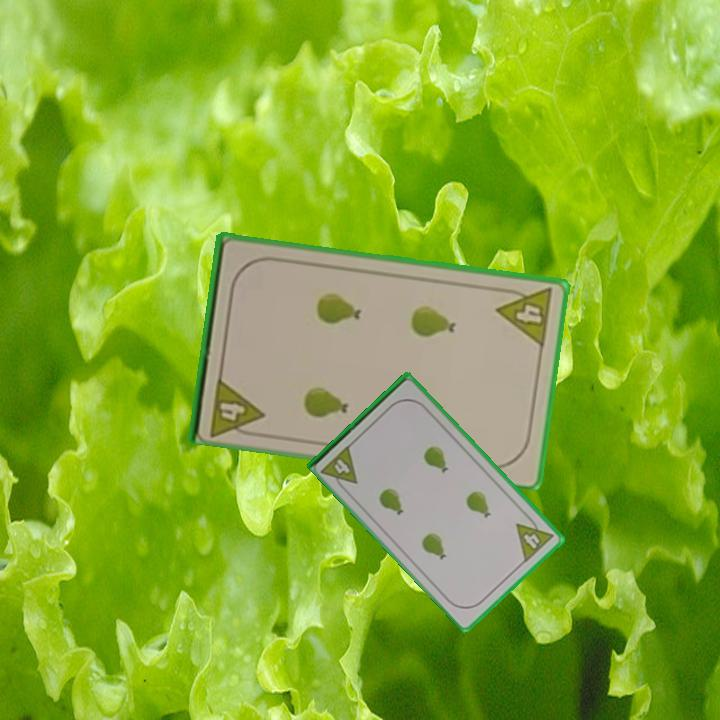4p: (493, 283, 556, 350), (206, 373, 266, 440), (513, 511, 556, 565), (318, 441, 360, 495)
